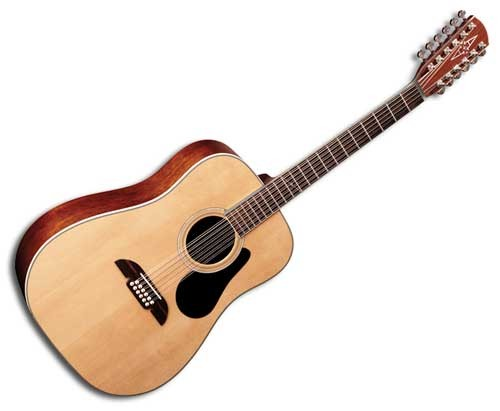guitar: (9, 11, 491, 398)
